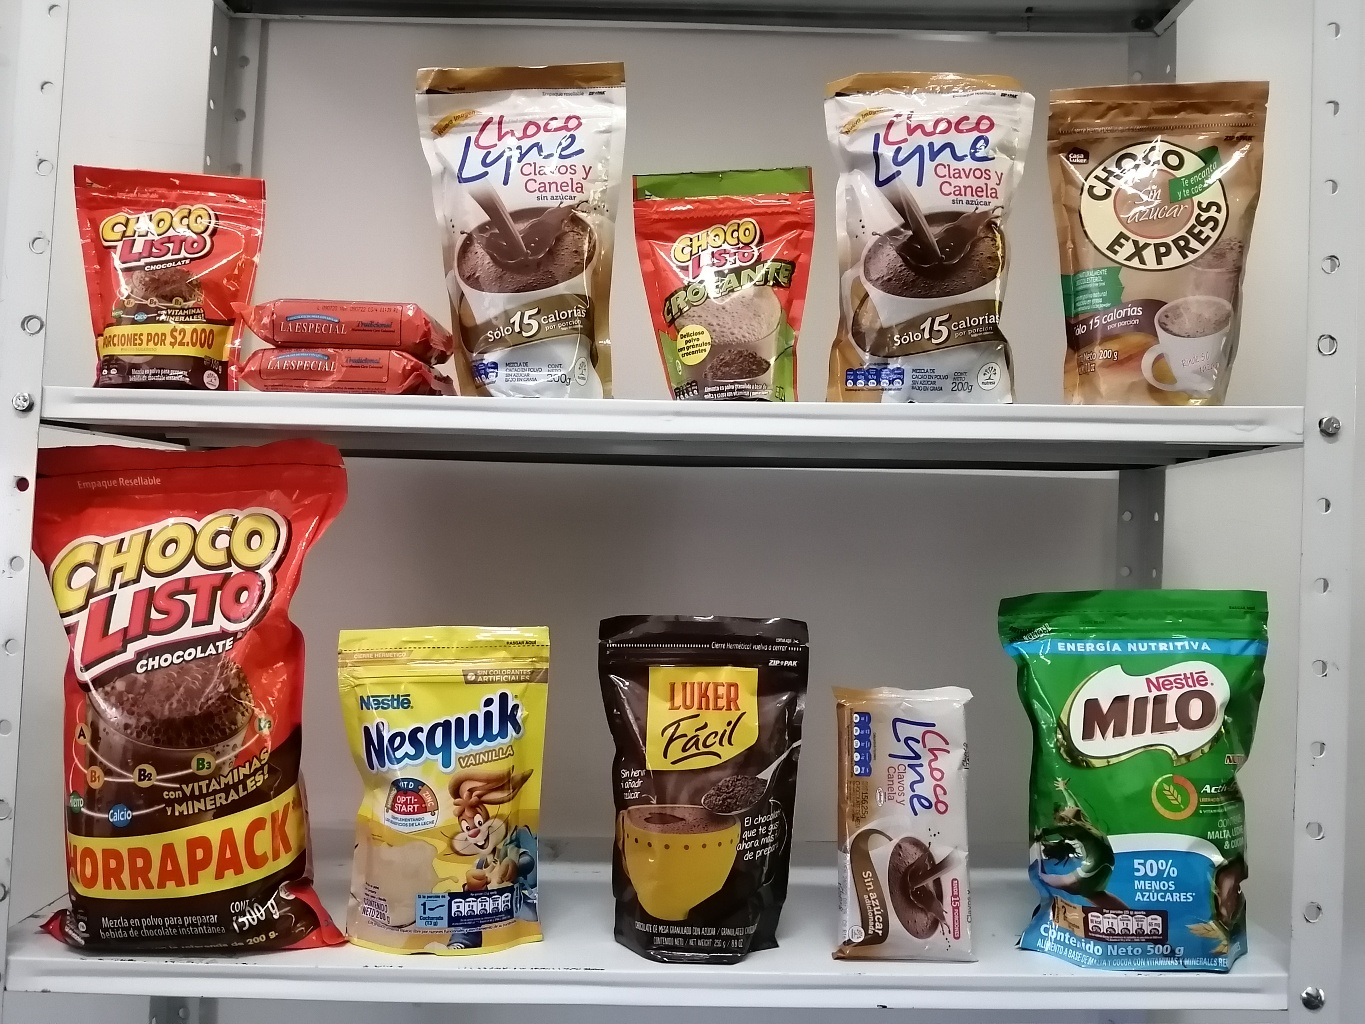COL0170102DYP10000: (632, 154, 819, 406)
COL0170103DYP1,500: (10, 425, 339, 964)
COL0170103DYP10000: (58, 155, 264, 389)
COL0170205DYP50000: (980, 581, 1289, 967)
COL0170306DYP20000: (325, 601, 563, 954)
